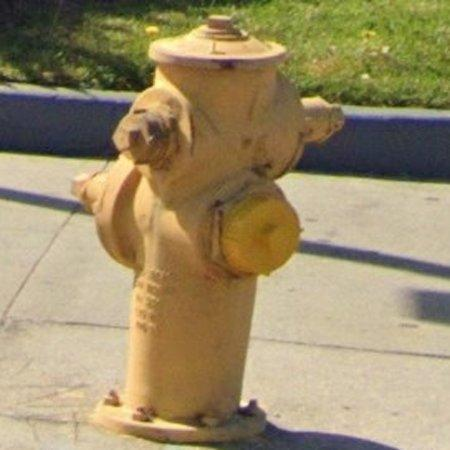a fire hydrant: (72, 16, 344, 444)
